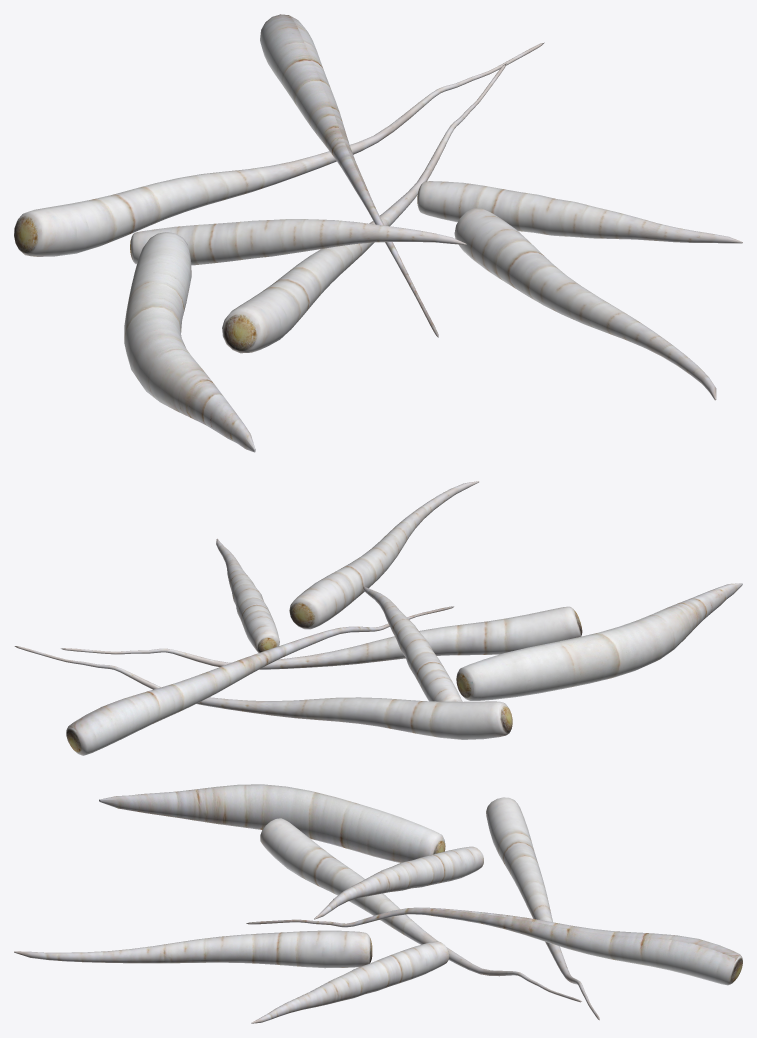
The picture shows the model from 3 angles, top to bottom: view 1: azimuth 30°, elevation 25°; view 2: azimuth 150°, elevation 25°; view 3: azimuth 270°, elevation 25°; orthographic projection. The views are drawn at different scales.
Visible parts, largest first — view 1: Model_017_Parsley_02, Model_017_Parsley_06, Model_017_Parsley_01, Model_017_Parsley_00, Model_017_Parsley_05, Model_017_Parsley_03, Model_017_Parsley_04; view 2: Model_017_Parsley_06, Model_017_Parsley_02, Model_017_Parsley_03, Model_017_Parsley_04, Model_017_Parsley_01, Model_017_Parsley_05, Model_017_Parsley_00; view 3: Model_017_Parsley_06, Model_017_Parsley_04, Model_017_Parsley_01, Model_017_Parsley_03, Model_017_Parsley_02, Model_017_Parsley_00, Model_017_Parsley_05.
Boxes of the visible parts, box(x1,y1,x2,y2) form: Model_017_Parsley_02: box(14, 42, 544, 256); Model_017_Parsley_06: box(124, 232, 255, 452); Model_017_Parsley_01: box(454, 208, 716, 400); Model_017_Parsley_00: box(417, 181, 742, 243); Model_017_Parsley_05: box(130, 219, 466, 265); Model_017_Parsley_03: box(222, 63, 506, 353); Model_017_Parsley_04: box(260, 14, 438, 337); Model_017_Parsley_06: box(456, 583, 742, 700); Model_017_Parsley_02: box(14, 646, 512, 739); Model_017_Parsley_03: box(61, 606, 582, 669); Model_017_Parsley_04: box(66, 606, 453, 755); Model_017_Parsley_01: box(289, 481, 479, 629); Model_017_Parsley_05: box(363, 586, 462, 701); Model_017_Parsley_00: box(216, 538, 279, 652); Model_017_Parsley_06: box(99, 784, 445, 862); Model_017_Parsley_04: box(246, 907, 742, 985); Model_017_Parsley_01: box(14, 930, 372, 968); Model_017_Parsley_03: box(260, 818, 581, 1002); Model_017_Parsley_02: box(486, 797, 599, 1020); Model_017_Parsley_00: box(251, 941, 449, 1023); Model_017_Parsley_05: box(314, 846, 483, 919).
Size of the model in its own units: 9.3 by 0.8415 by 12.38.
